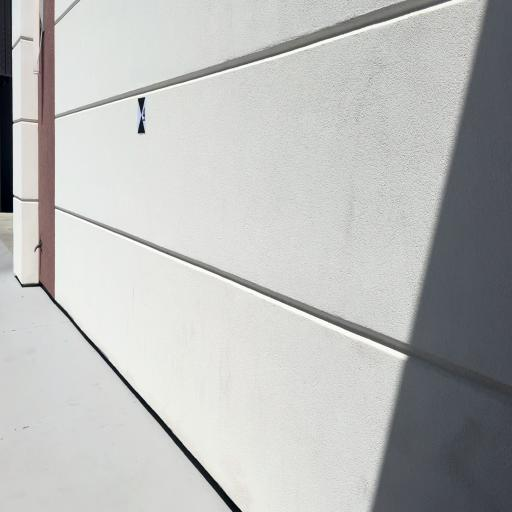target4: (137, 97, 146, 134)
